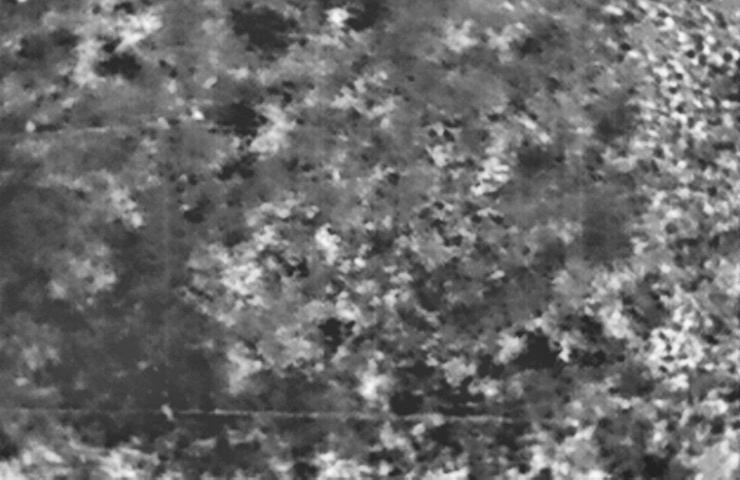landmines: (317, 224, 344, 256)
